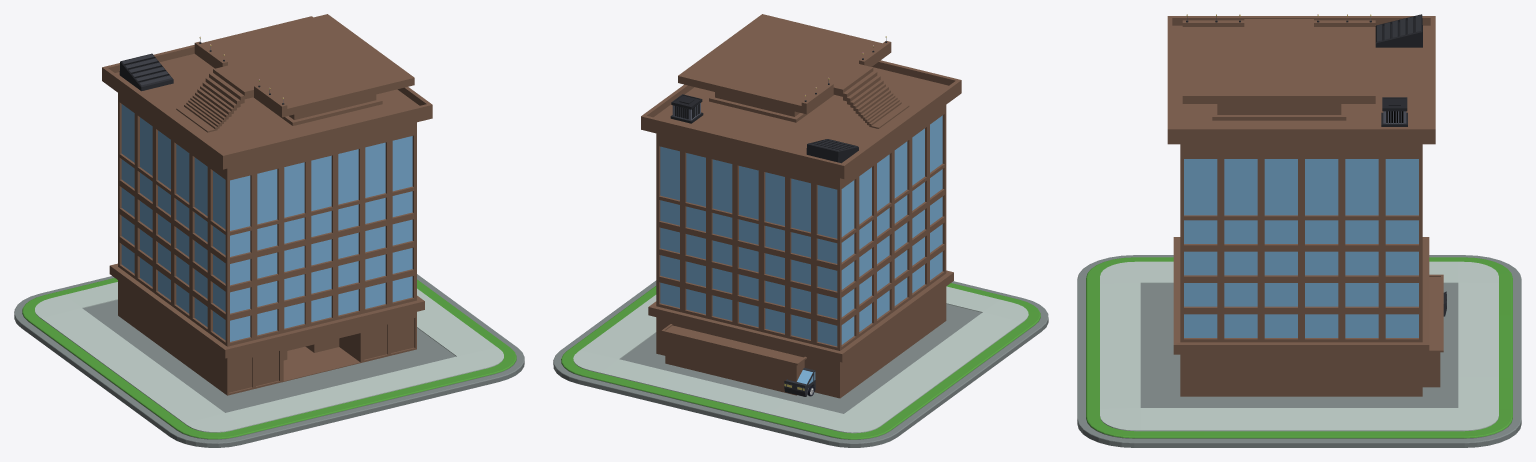
The model's file is City Environment 12.fbx.
3 views of the same model, side by side, from view 1: azimuth 30°, elevation 25°; view 2: azimuth 150°, elevation 25°; view 3: azimuth 270°, elevation 25° (orthographic). The views are drawn at different scales.
Parts seen in each view (by area): view 1: office building helipad!, Low poly city - Office Building; view 2: office building helipad!, Low poly city - Office Building, small building with water tank on the roof, car low poly.006; view 3: office building helipad!, Low poly city - Office Building, small building with water tank on the roof.
Boxes of the visible parts, left/top/right/bottom form: office building helipad!: left=102, top=14, right=432, bottom=395; Low poly city - Office Building: left=14, top=274, right=524, bottom=447; office building helipad!: left=641, top=14, right=961, bottom=398; Low poly city - Office Building: left=553, top=280, right=1048, bottom=447; small building with water tank on the roof: left=661, top=324, right=806, bottom=395; car low poly.006: left=784, top=368, right=815, bottom=396; office building helipad!: left=1167, top=14, right=1435, bottom=396; Low poly city - Office Building: left=1077, top=255, right=1521, bottom=447; small building with water tank on the roof: left=1422, top=274, right=1443, bottom=387.
Bounding box in the file's own units: 1376 × 1193 × 1376.
